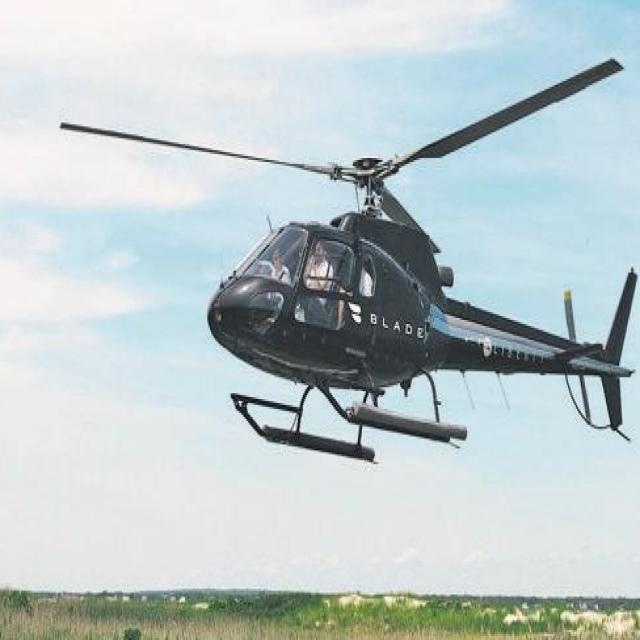helicopter: (57, 62, 640, 461)
